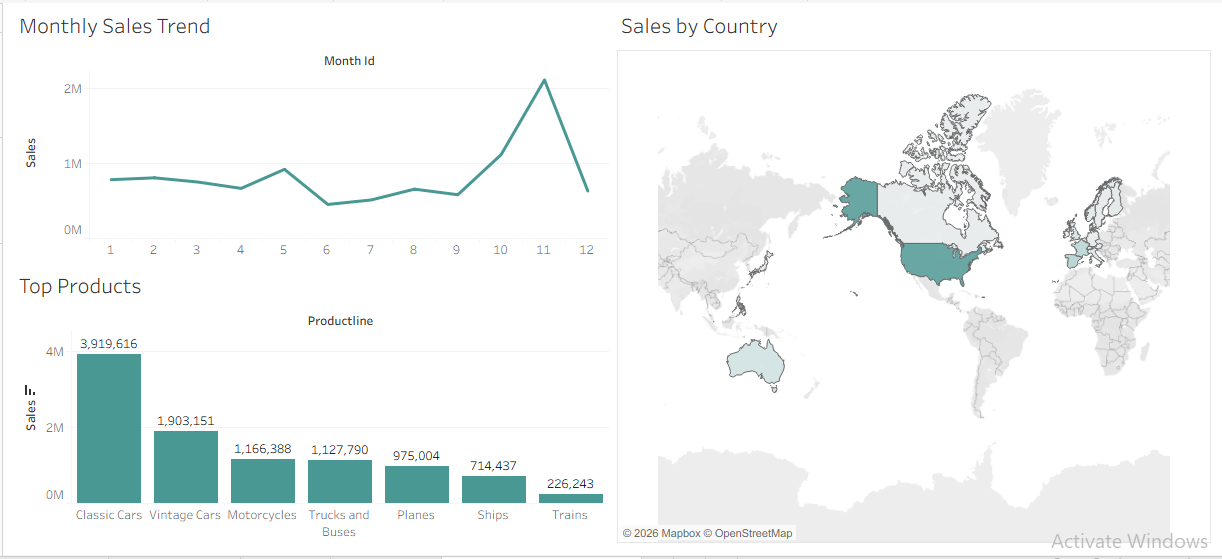

What the dashboard file says about the page in this screenshot:
{"tool":"tableau","page":{"name":"Sales Performance Dashboard","canvas":[1000,1000],"units":"permille","ordinal":0},"visuals":[{"type":"worksheet","title":"Monthly Sales Trend","mark":"Line","rows":["SALES"],"cols":["MONTH_ID"],"box":[7,14.3,492.9,464.3]},{"type":"worksheet","title":"Sales by Country","mark":"Automatic","box":[499.9,14.3,493,971.4]},{"type":"worksheet","title":"Top Products","mark":"Bar","rows":["SALES"],"cols":["PRODUCTLINE"],"box":[7,478.6,492.9,507.1]}]}

Visuals, with their boxes on the dashboard's canvas, which has no fixed pixel size, in thousandths of its width and height (x1, y1, x2, y2). These are canvas units, not pixel positions in the 1222x559 screenshot, which may show the page scaled, cropped or inside an application window:
"Monthly Sales Trend" worksheet (Line marks): bbox=[7, 14, 500, 479]
"Sales by Country" worksheet: bbox=[500, 14, 993, 986]
"Top Products" worksheet (Bar marks): bbox=[7, 479, 500, 986]
